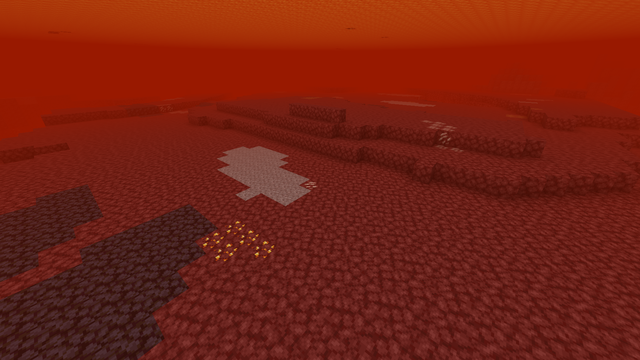nethergold: (199, 219, 279, 268)
quartz: (421, 117, 467, 156), (301, 179, 318, 192)
